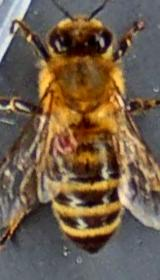varroa_mite: (46, 130, 78, 153)
